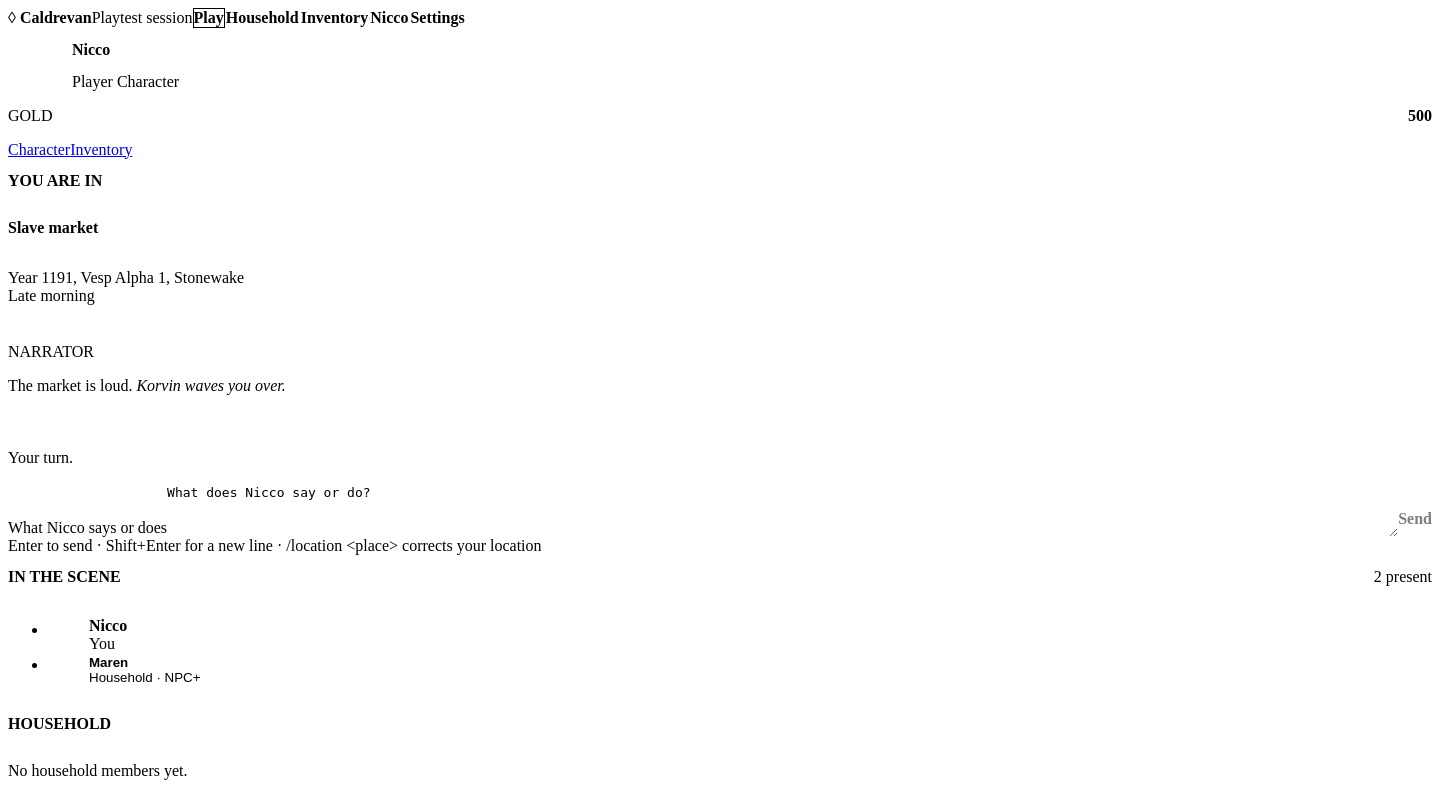
Test: character tiers: controls come from the engine's capabilities only › an NPC+ the engine reports as not editable shows the reason
Click the button "Maren Household · NPC+": (109, 662) [48,654,1432,686]
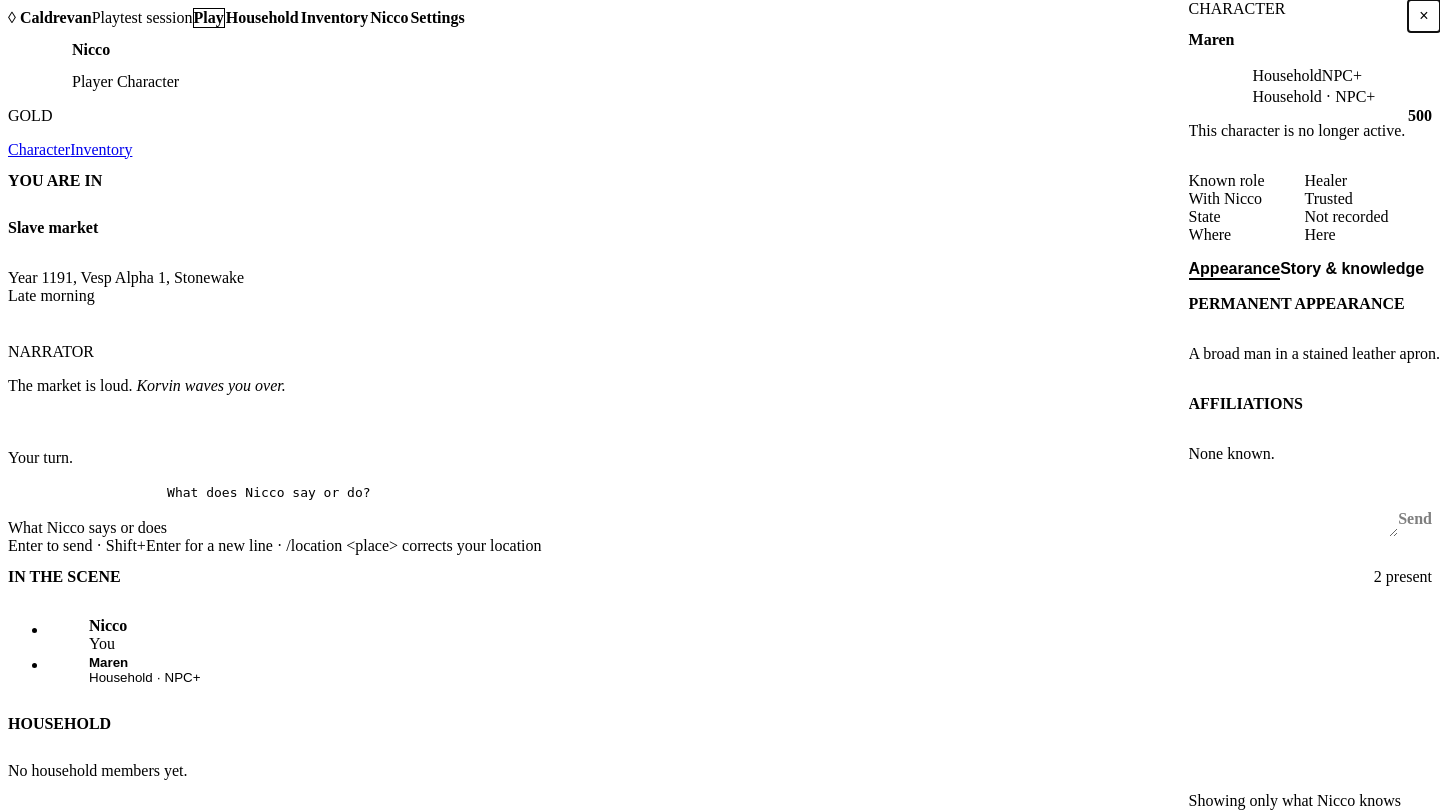
expect the text "This character is no longer active." is shown: met, box [1188,122,1439,140]
